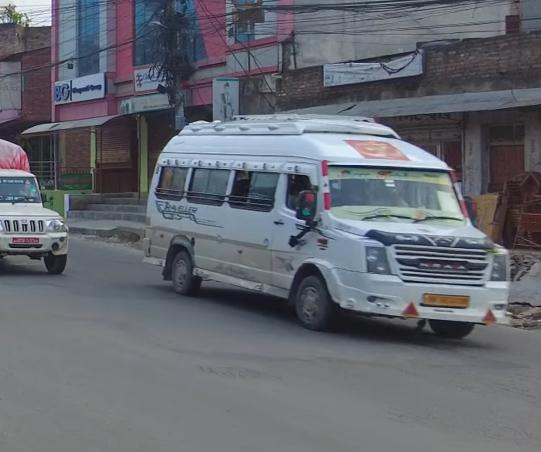micro_bus: (150, 111, 525, 351)
transport_vehicle: (0, 141, 71, 281)
